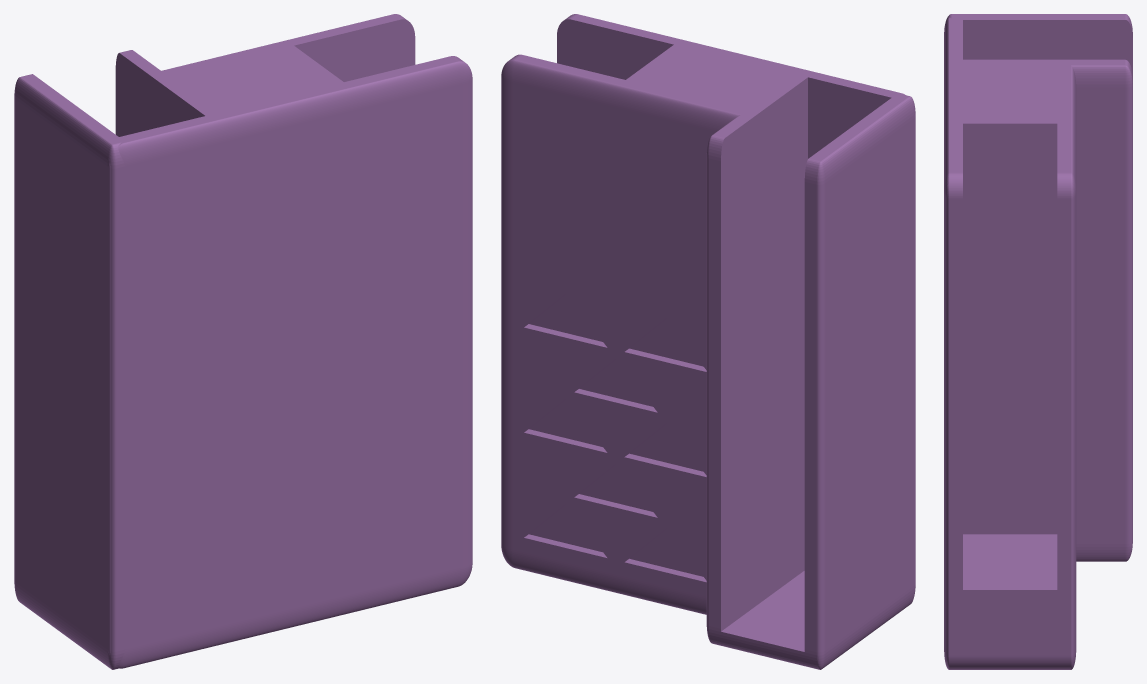
Rendered from spacer_cube_riser_90_2.glb.
The picture shows the model from 3 angles, left to right: view 1: azimuth 30°, elevation 25°; view 2: azimuth 150°, elevation 25°; view 3: azimuth 270°, elevation 25°; orthographic projection. The views are drawn at different scales.
Visible parts, largest first — view 1: Mesh_Mesh_head_geo.001_lambert2SG.001; view 2: Mesh_Mesh_head_geo.001_lambert2SG.001; view 3: Mesh_Mesh_head_geo.001_lambert2SG.001.
Boxes of the visible parts, left/top/right/bottom form: Mesh_Mesh_head_geo.001_lambert2SG.001: left=14, top=14, right=472, bottom=669; Mesh_Mesh_head_geo.001_lambert2SG.001: left=501, top=14, right=915, bottom=669; Mesh_Mesh_head_geo.001_lambert2SG.001: left=944, top=14, right=1132, bottom=669.
Size of the model in its own units: 0.0667 by 0.0921 by 0.0318.
